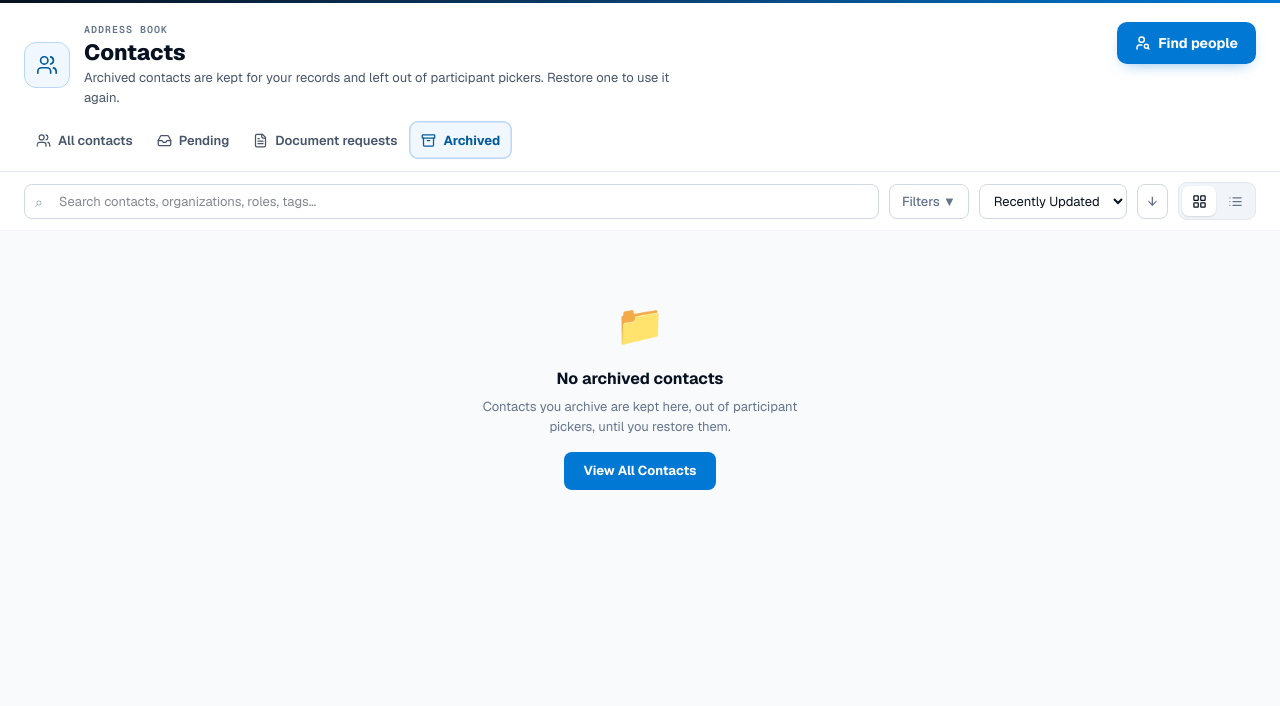
Contacts → Archived › shows an empty state with a way back when nothing is archived
Check: the heading "No archived contacts" is shown, box [556, 368, 723, 389]
What coordinates should you click on to do the following:
click the button "View All Contacts"
I would click on:
 (640, 471)
Its box is [564, 452, 716, 490].
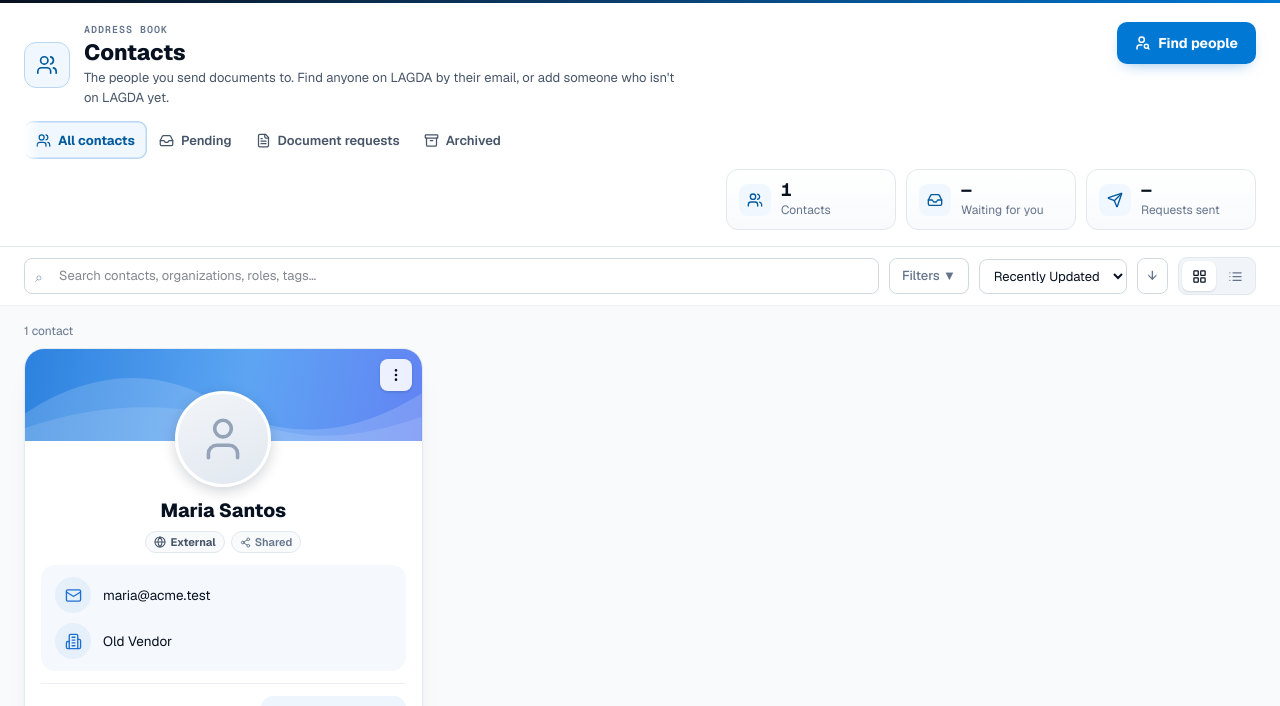
Check: the text "Maria Santos" is shown, box [160, 499, 286, 523]
